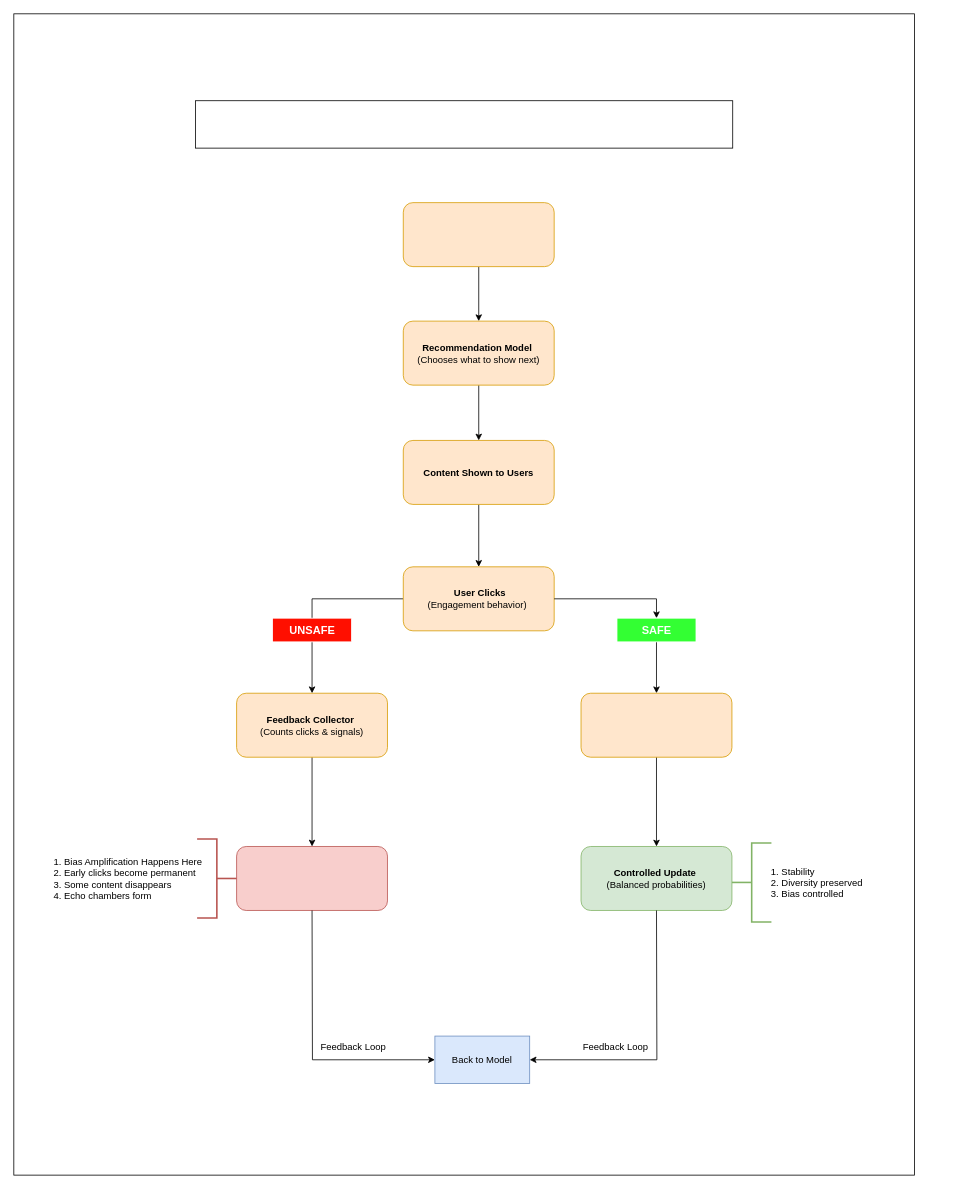
Image size: 968x1189. Some labels were removed from this diagram. Each missing label, with the centre of its shape:
"Content dataset (News, Sports, Tech, etc.)" belongs at (x=478, y=234).
"Feedback Processing Decay old feedback Limit weight Add exploration" belongs at (x=656, y=724).
"Safe & Unsafe Feedback Loop (Failure Architecture)" belongs at (x=464, y=124).
"Update Model Using Click (Boost clicked content)" belongs at (x=311, y=878).
